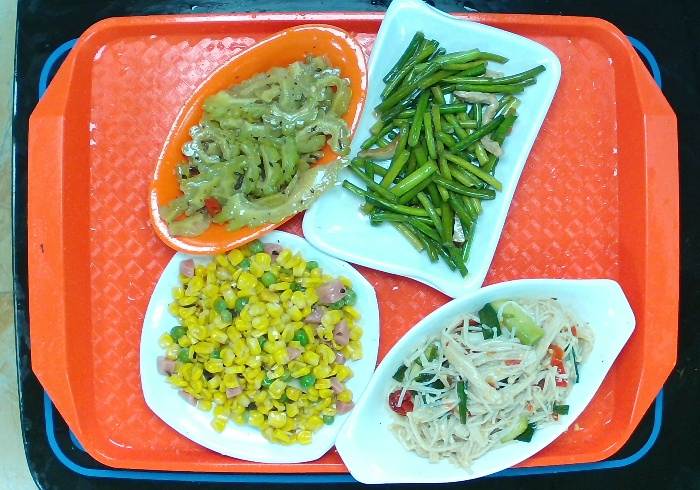RJxy-Ju_Huang_Tuo_Yuan: (146, 16, 372, 261)
RJxy-Si_Fang_Ao_Bian_Wan: (296, 1, 568, 303)
RJxy-Si_Fang_Die: (135, 225, 382, 465)
RJxy-Yu_Pan: (331, 269, 642, 490)
